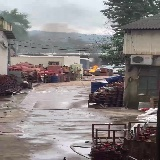fire: (88, 65, 98, 72)
